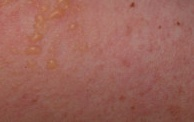SJS-TEN: (7, 0, 84, 77)
